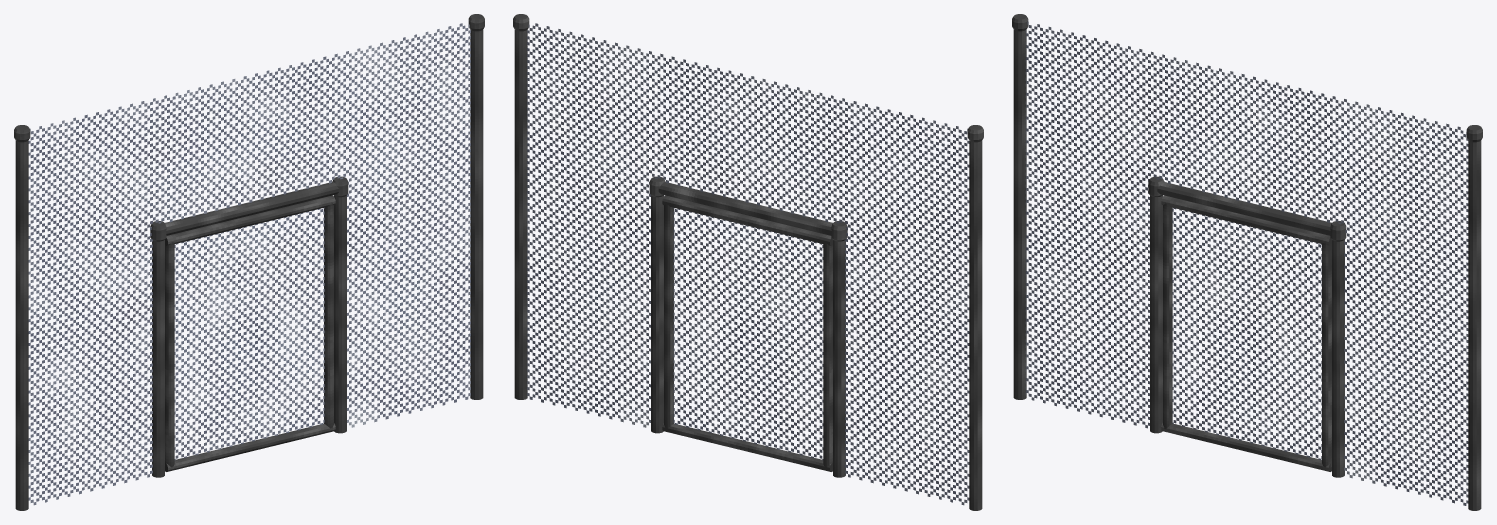
File: fenceDoor - merged.gltf
3 views of the same model, side by side, from view 1: azimuth 30°, elevation 25°; view 2: azimuth 150°, elevation 25°; view 3: azimuth 330°, elevation 25° (orthographic).
Parts seen in each view (by area): view 1: fence, innerFence; view 2: fence, innerFence; view 3: fence, innerFence.
Boxes of the visible parts, left/top/right/bottom form: fence: left=14, top=14, right=484, bottom=510; innerFence: left=165, top=195, right=335, bottom=471; fence: left=513, top=14, right=983, bottom=510; innerFence: left=662, top=195, right=832, bottom=471; fence: left=1012, top=14, right=1482, bottom=510; innerFence: left=1161, top=195, right=1331, bottom=471.
Size of the model in its own units: 5.16 by 4 by 0.1563.
6 materials, 6 textured.
